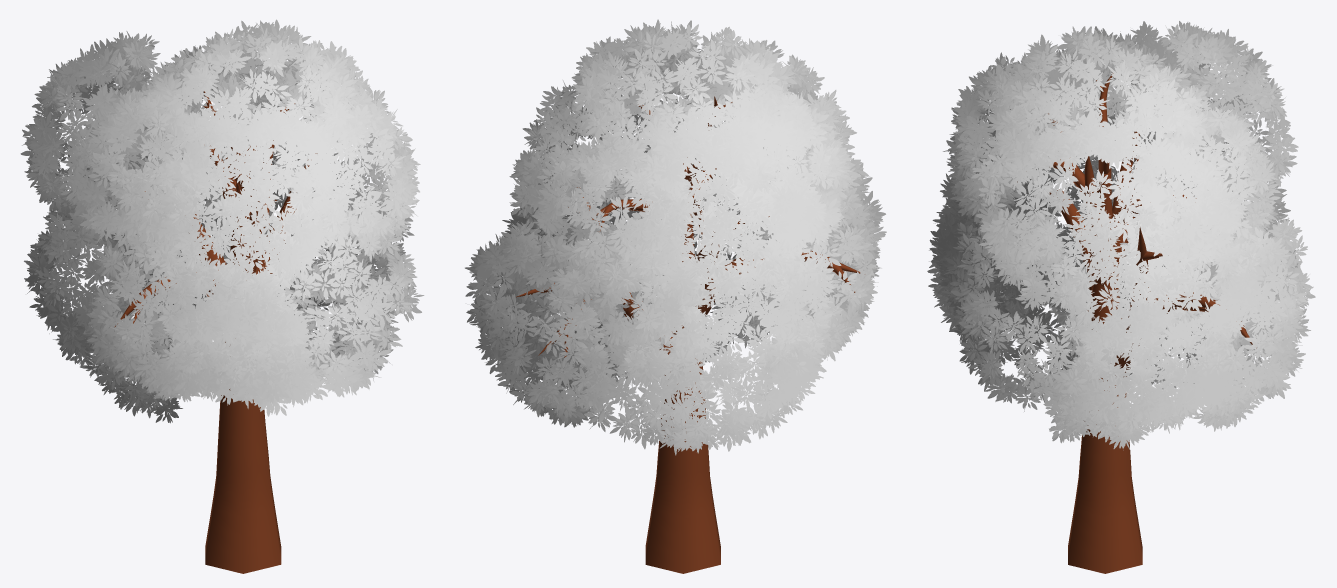
The model's file is tree 3.fbx.
3 views of the same model, side by side, from view 1: azimuth 30°, elevation 25°; view 2: azimuth 150°, elevation 25°; view 3: azimuth 270°, elevation 25° (orthographic).
Visible parts, largest first — view 1: leaves, trunk; view 2: leaves, trunk; view 3: leaves, trunk.
Part boxes in pixels (bbox=[...]): leaves: bbox=[20, 19, 424, 423]; trunk: bbox=[114, 91, 317, 573]; leaves: bbox=[465, 19, 886, 455]; trunk: bbox=[516, 96, 860, 573]; leaves: bbox=[927, 21, 1315, 450]; trunk: bbox=[1017, 73, 1256, 573].
Size of the model in its own units: 562 by 783 by 554.
